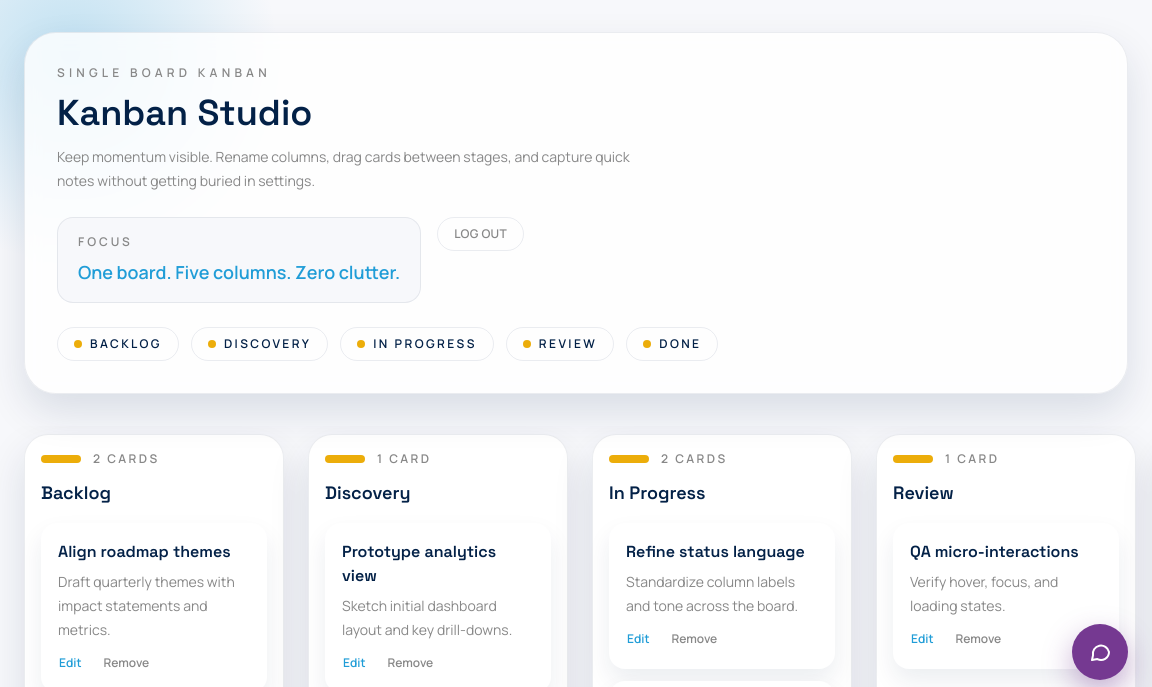
KanbanBoard › cancels editing a card without changes or saving
Click the button with aria-label "edit align roadmap themes" at coordinates (70, 663), box [50,650,90,676]
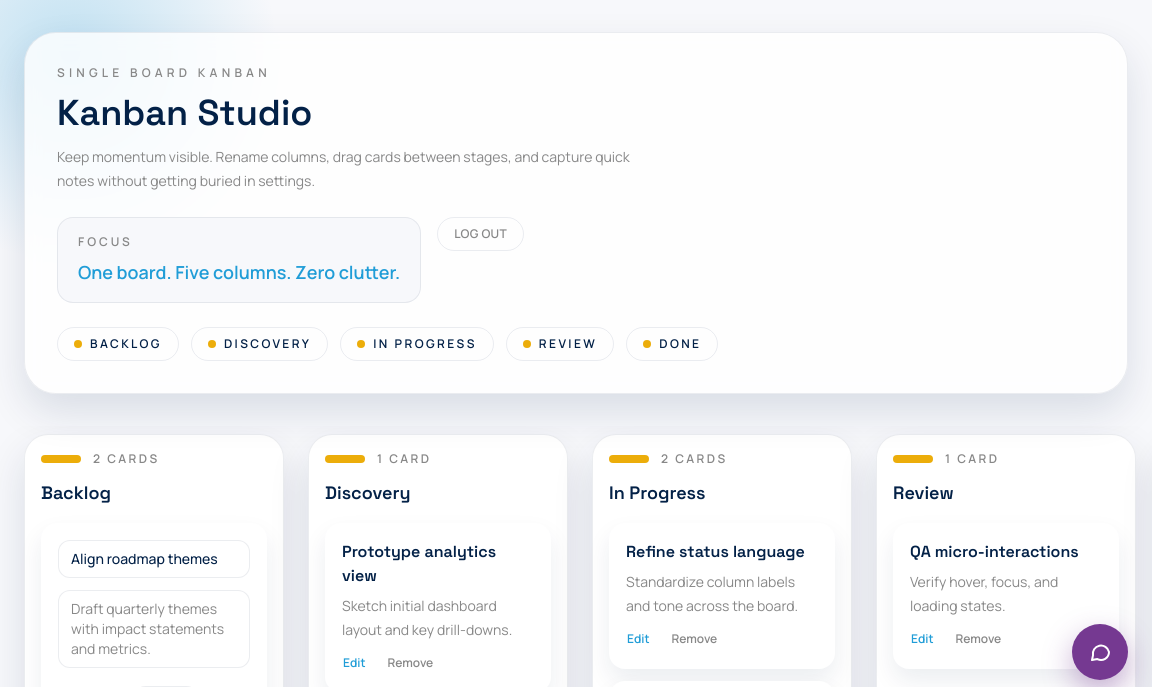
Replace the text in the field named "Card title" with "Discarded" at coordinates (154, 559), box [58,540,250,578]
(page scrolled)
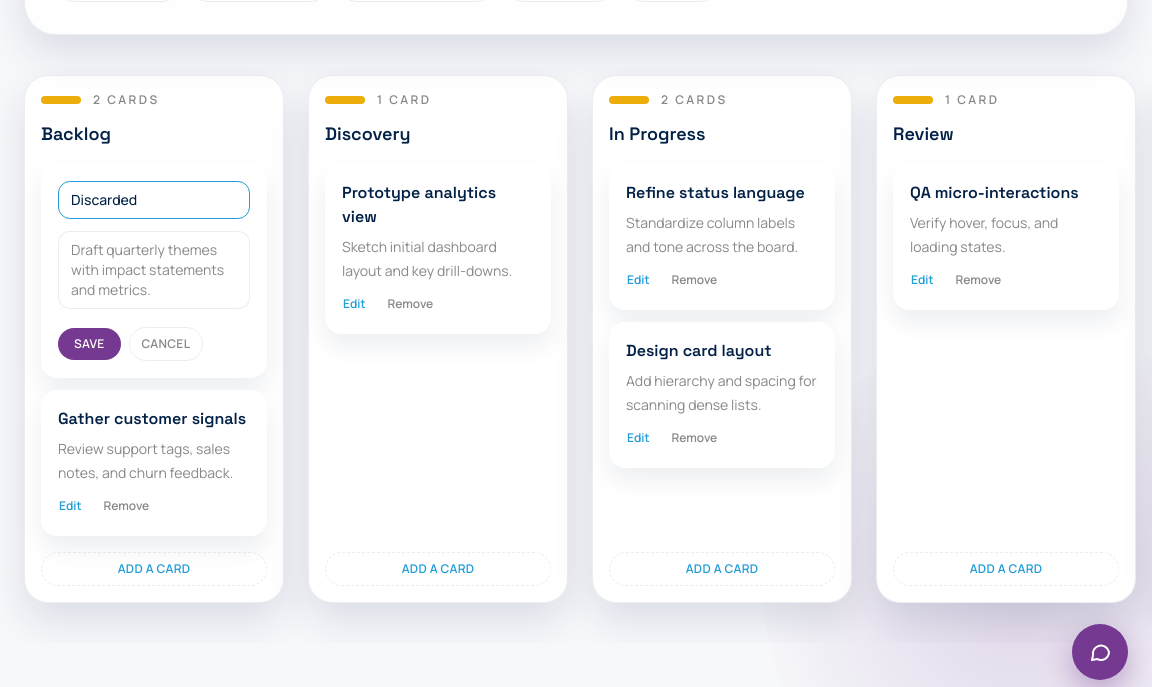
Click the button "Cancel" at coordinates (166, 344), box [128,327,203,361]
(page scrolled)
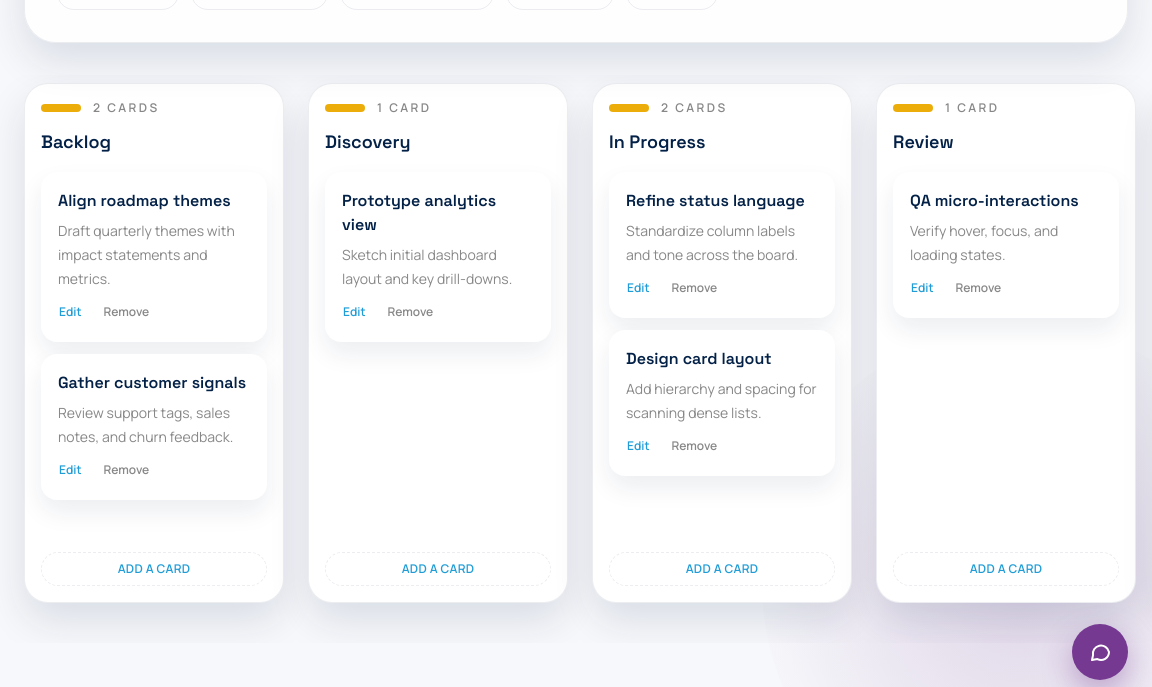
Expected: the text "Discarded" is not shown
Expected: the heading "Align roadmap themes" is shown, [58,189,250,213]
